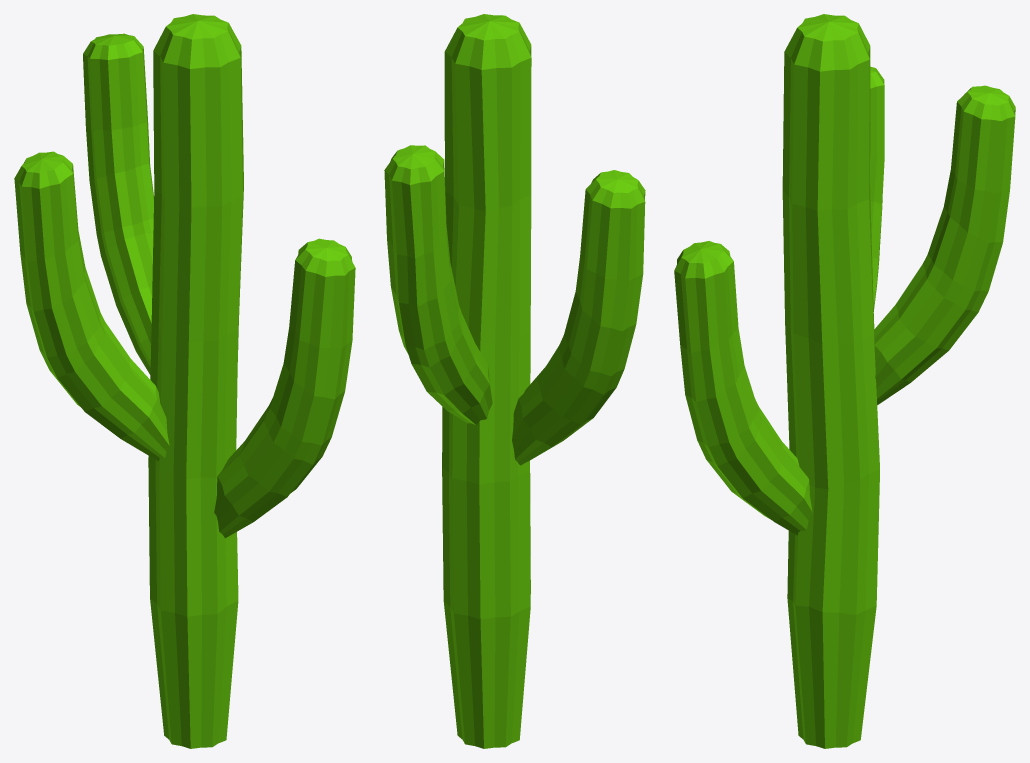
File: ww_cactus_b.glb
The picture shows the model from 3 angles, left to right: view 1: azimuth 30°, elevation 25°; view 2: azimuth 150°, elevation 25°; view 3: azimuth 270°, elevation 25°; orthographic projection.
Parts seen in each view (by area): view 1: Cactus_B; view 2: Cactus_B; view 3: Cactus_B.
Part boxes in pixels (x1,y1,x2,y2): Cactus_B: [14, 14, 355, 748]; Cactus_B: [384, 14, 645, 748]; Cactus_B: [674, 14, 1015, 748].
Size of the model in its own units: 0.7719 by 2.04 by 0.8865.
